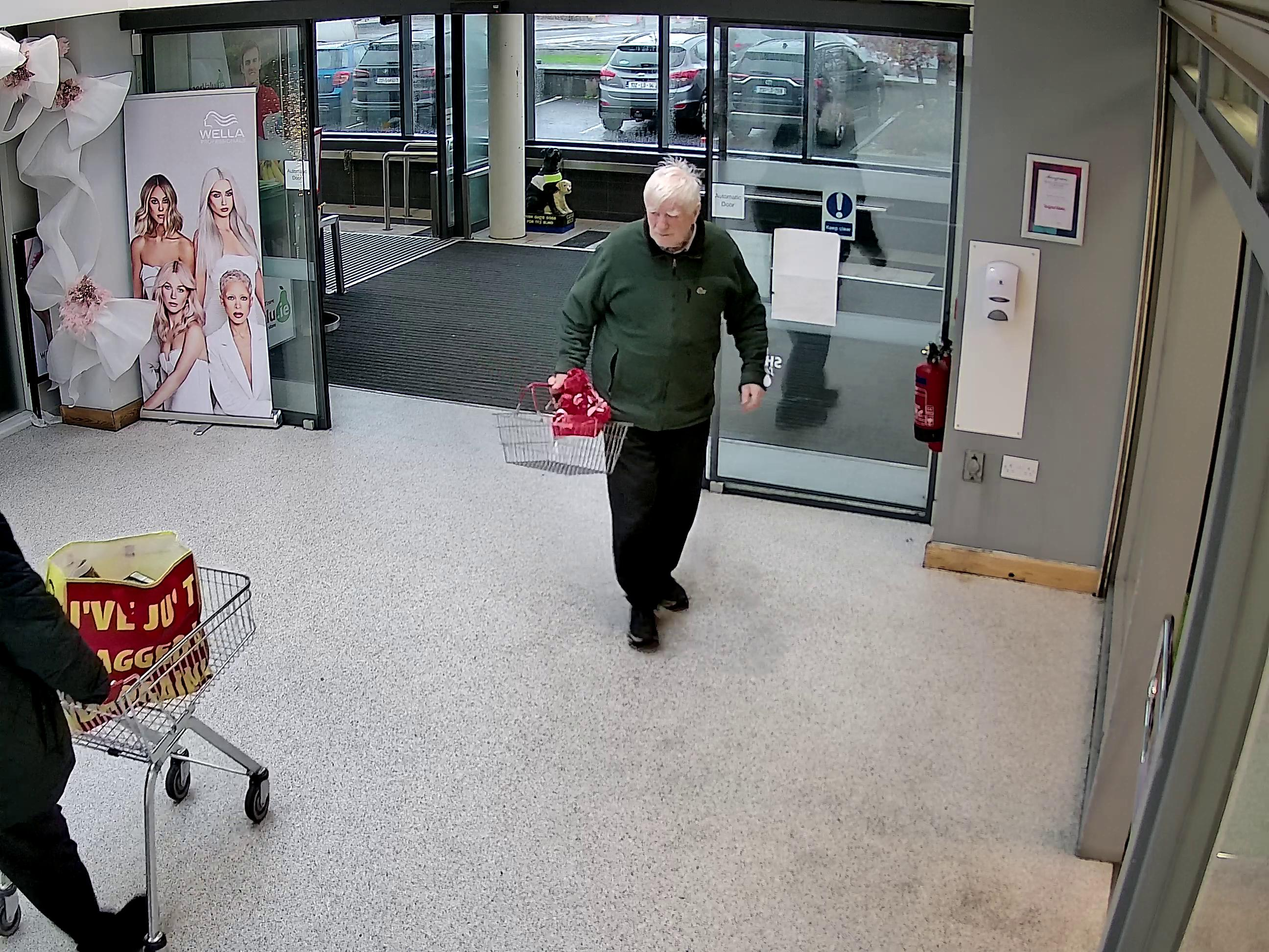empty-basket: (491, 379, 633, 476)
empty-shopping-bags: (551, 366, 610, 438)
person: (556, 160, 768, 652)
person-with-basket-trolly-and-shopping-bag: (490, 159, 768, 655)
